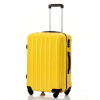luggage: (25, 1, 72, 99)
